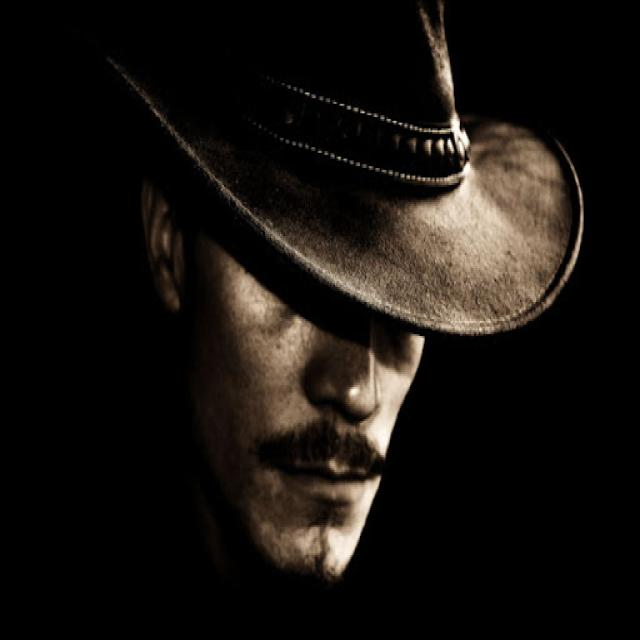hat: (94, 0, 584, 591)
